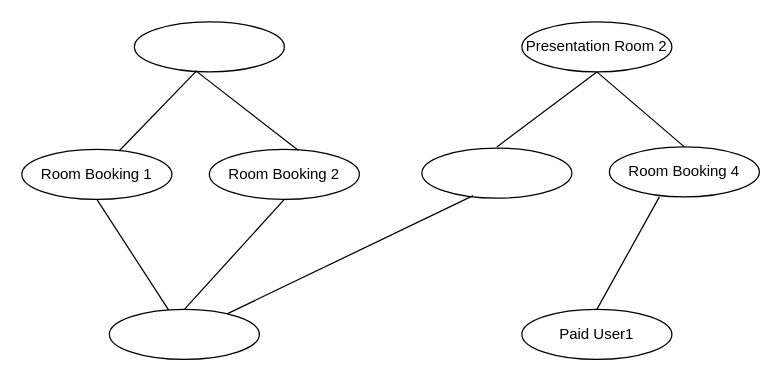
The diagram is 781 pixels wide and 381 high, and some of its shapes have lost their labels. Here are the shapes that lost their labels. From the top down, the centre of each, then its label:
pixel 208 46: Presentation Room 1
pixel 496 172: Room Booking 3
pixel 183 333: Student 1
